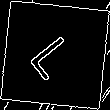L_NE: (25, 27, 85, 83)
